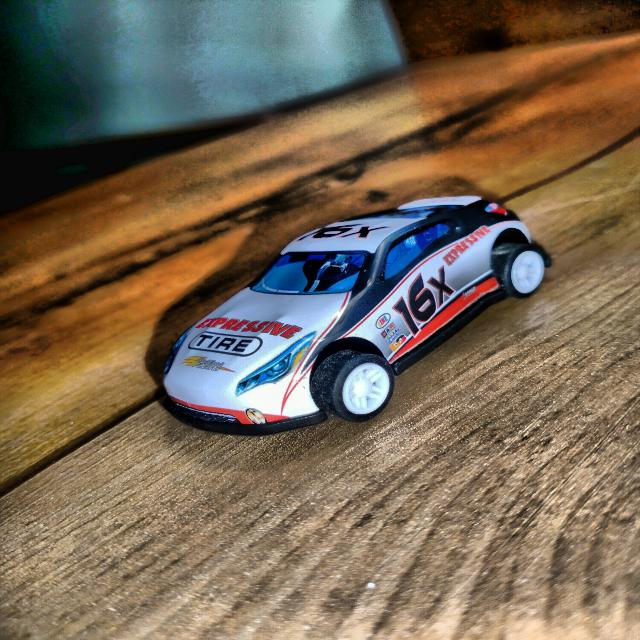Car: (164, 196, 550, 434)
